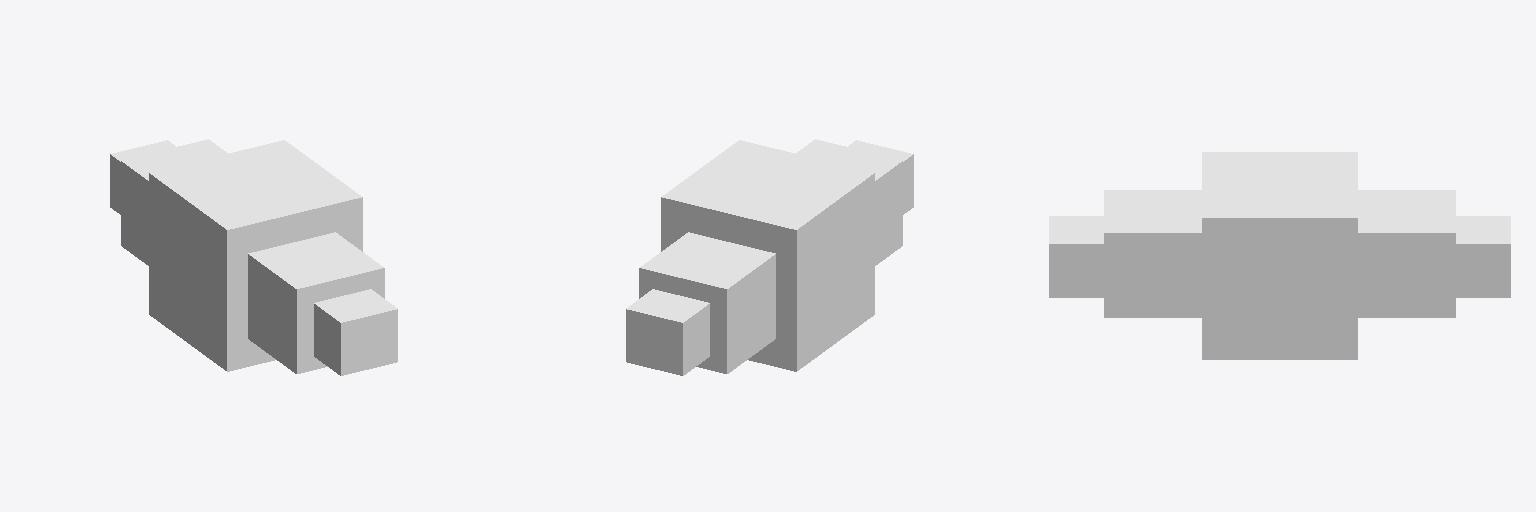
Rendered from Nuvol2.obj.
3 views of the same model, side by side, from view 1: azimuth 30°, elevation 25°; view 2: azimuth 150°, elevation 25°; view 3: azimuth 270°, elevation 25° (orthographic).
Visible parts, largest first — view 1: object 1; view 2: object 1; view 3: object 1.
Boxes of the visible parts, x1=… form: object 1: x1=110, y1=139, x2=397, y2=375; object 1: x1=626, y1=139, x2=913, y2=375; object 1: x1=1049, y1=152, x2=1510, y2=359.
Size of the model in its own units: 4 by 4 by 11.8.